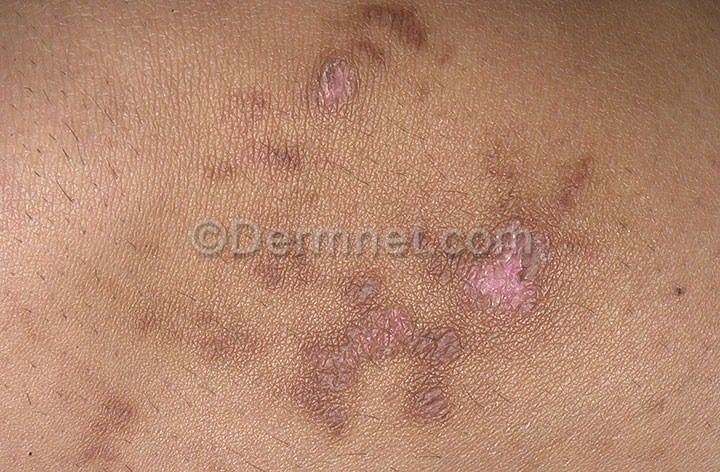Melasma: (149, 258, 587, 472), (175, 2, 472, 192)
